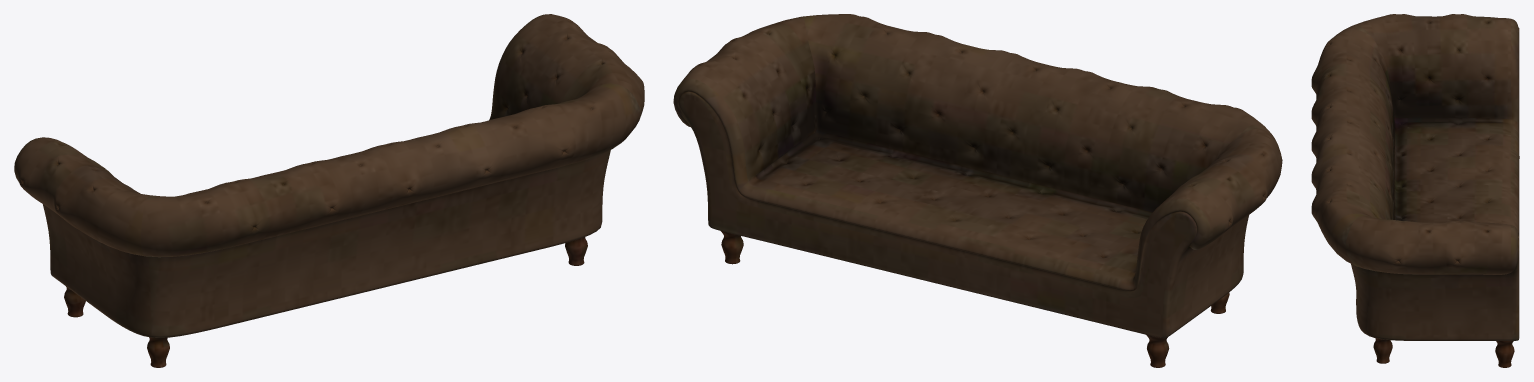
Rendered from Sofa13.glb.
3 renders of one model, left to right at view 1: azimuth 30°, elevation 25°; view 2: azimuth 150°, elevation 25°; view 3: azimuth 270°, elevation 25°, orthographic. The views are drawn at different scales.
Parts seen in each view (by area): view 1: Sofa13_model; view 2: Sofa13_model; view 3: Sofa13_model.
Boxes of the visible parts, <box> form: Sofa13_model: <box>14,14,644,367</box>; Sofa13_model: <box>673,14,1282,367</box>; Sofa13_model: <box>1311,14,1519,367</box>.
Size of the model in its own units: 5.15 by 1.61 by 1.95.
1 material, 1 textured.
